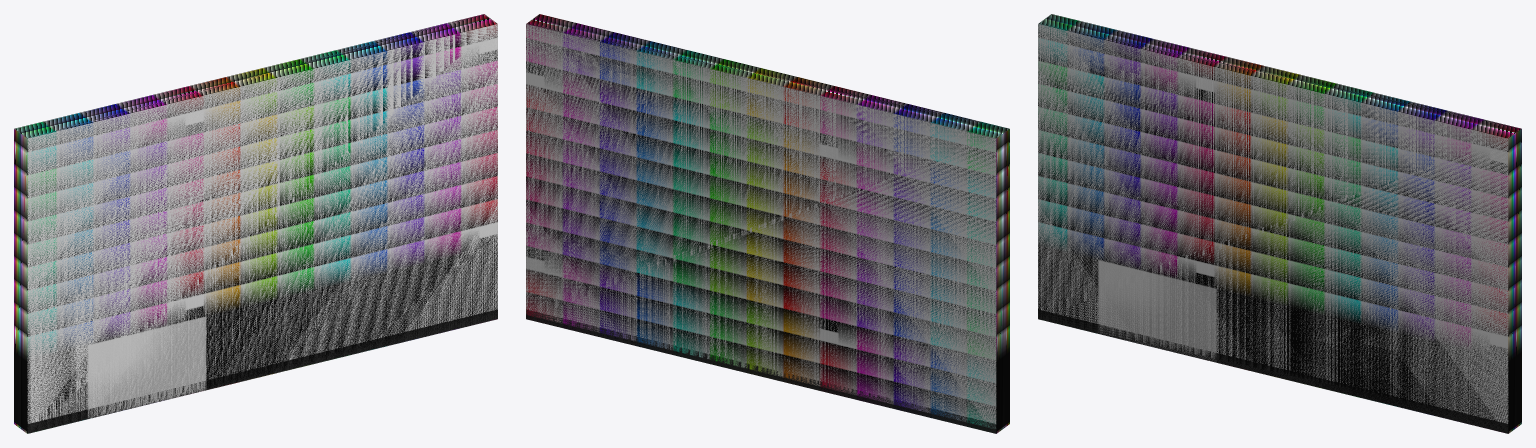
Rendered from interiorWall_line_5_white.fbx.
3 renders of one model, left to right at view 1: azimuth 30°, elevation 25°; view 2: azimuth 150°, elevation 25°; view 3: azimuth 330°, elevation 25°, orthographic.
Visible parts, largest first — view 1: interiorWall_line_5_white, interiorWall_line_5_trigger_white; view 2: interiorWall_line_5_trigger_white, interiorWall_line_5_white; view 3: interiorWall_line_5_trigger_white, interiorWall_line_5_white.
Part boxes in pixels (x1,y1,x2,y2): interiorWall_line_5_white: (27, 24, 497, 433); interiorWall_line_5_trigger_white: (14, 14, 497, 433); interiorWall_line_5_trigger_white: (526, 14, 1009, 433); interiorWall_line_5_white: (526, 24, 996, 433); interiorWall_line_5_trigger_white: (1038, 14, 1521, 433); interiorWall_line_5_white: (1038, 24, 1508, 433).
Size of what is drawn, in the model's own units: 500 by 300 by 25.
